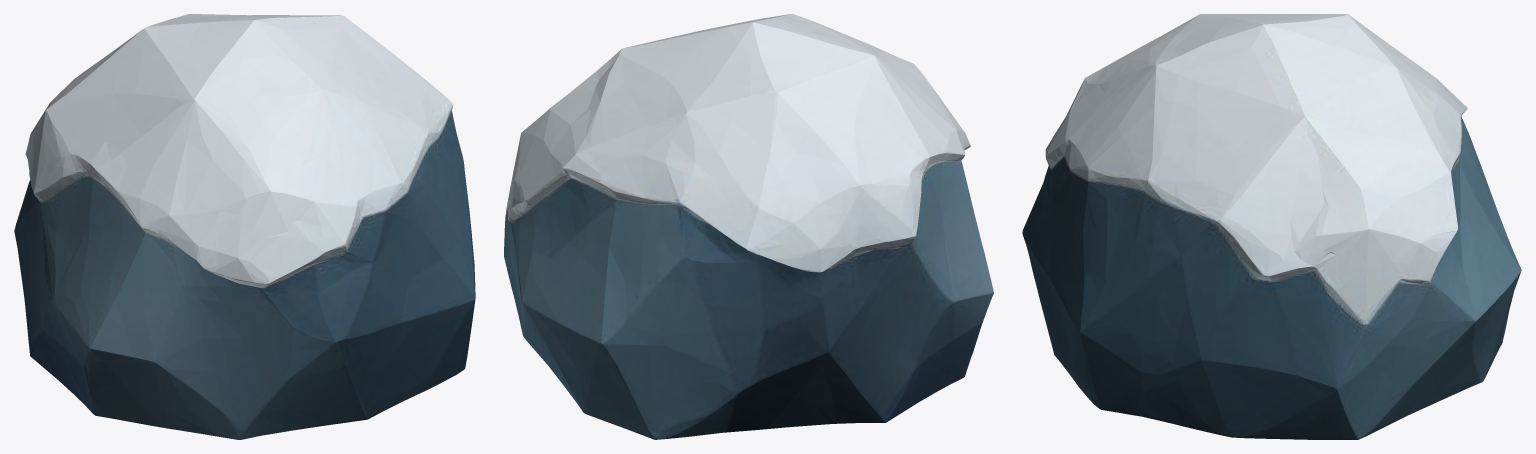
Rendered from d_givre_rocher_enneige.glb.
3 renders of one model, left to right at view 1: azimuth 30°, elevation 25°; view 2: azimuth 150°, elevation 25°; view 3: azimuth 270°, elevation 25°, orthographic.
Visible parts, largest first — view 1: geometry_0; view 2: geometry_0; view 3: geometry_0.
Part boxes in pixels (x1=…): geometry_0: x1=14, y1=14, x2=475, y2=439; geometry_0: x1=504, y1=14, x2=993, y2=439; geometry_0: x1=1022, y1=14, x2=1521, y2=439.
Bounding box in the file's own units: 0.9554 × 0.7265 × 0.99.
Materials: 1 (1 with a texture image).
